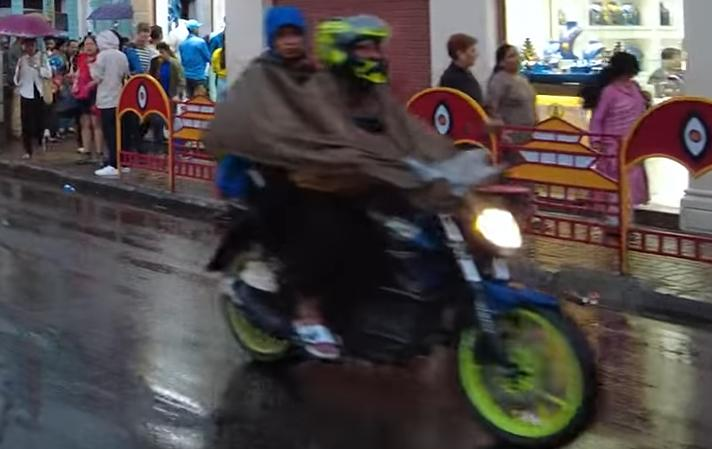bike: (201, 122, 605, 449)
